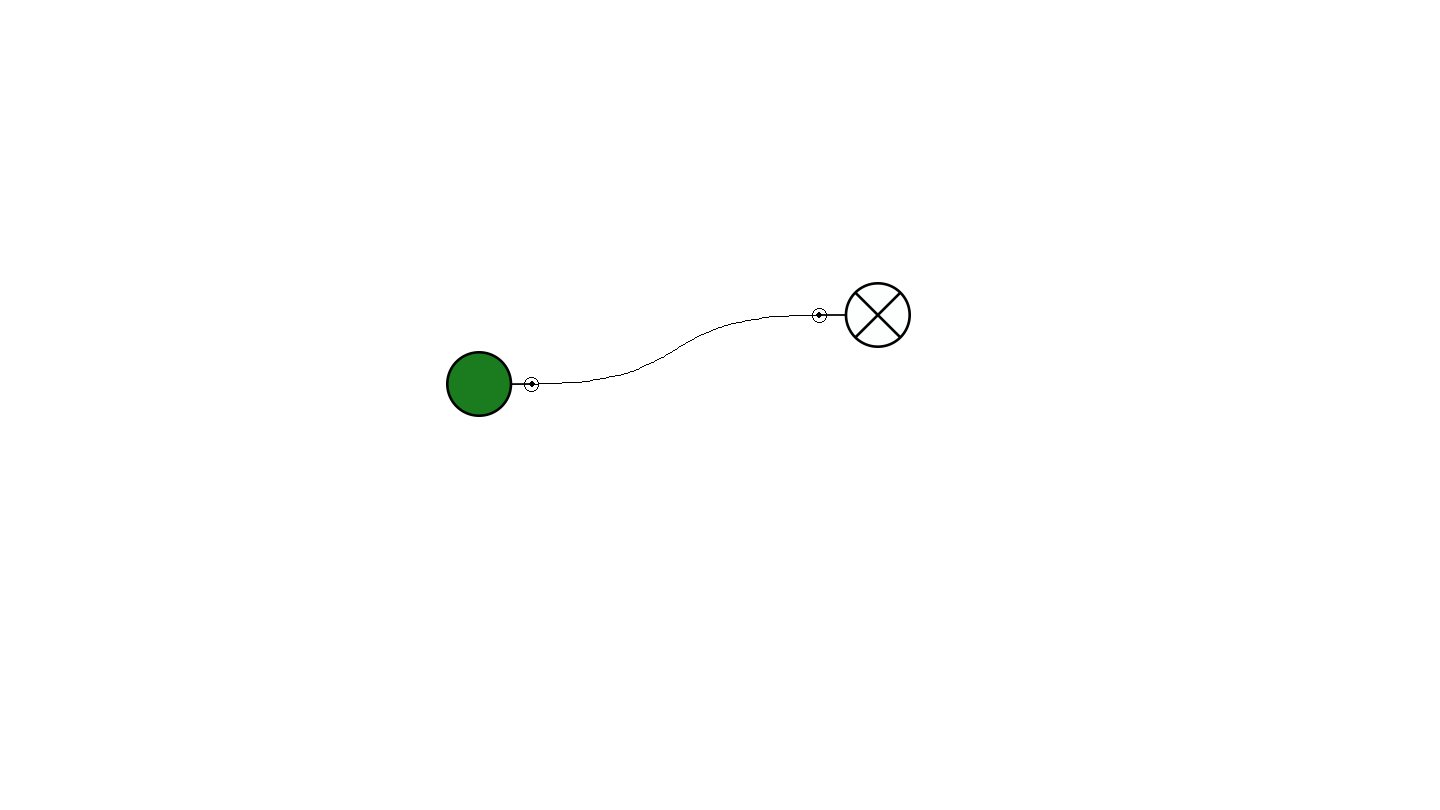bulb: (812, 282, 911, 348)
switch_True: (446, 351, 539, 417)
